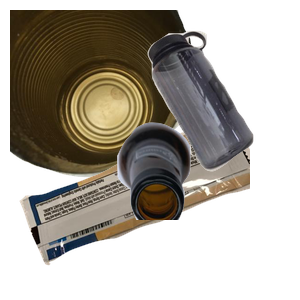glass: (115, 120, 300, 300)
metal: (10, 10, 200, 180)
plastic: (145, 28, 300, 192)
trash: (17, 123, 257, 300)
